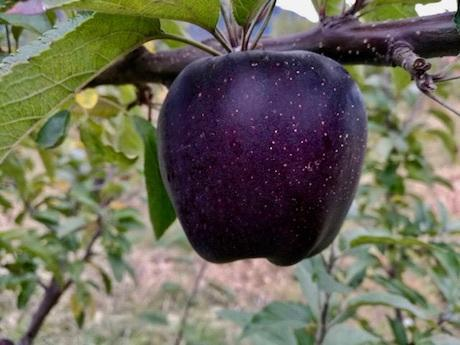apple: (158, 49, 369, 267)
